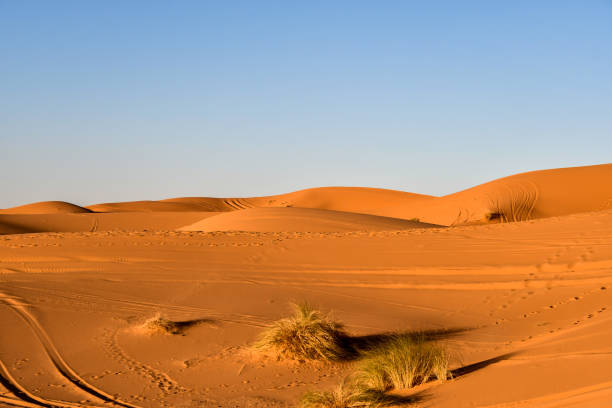vehicle_track: (0, 291, 139, 407)
